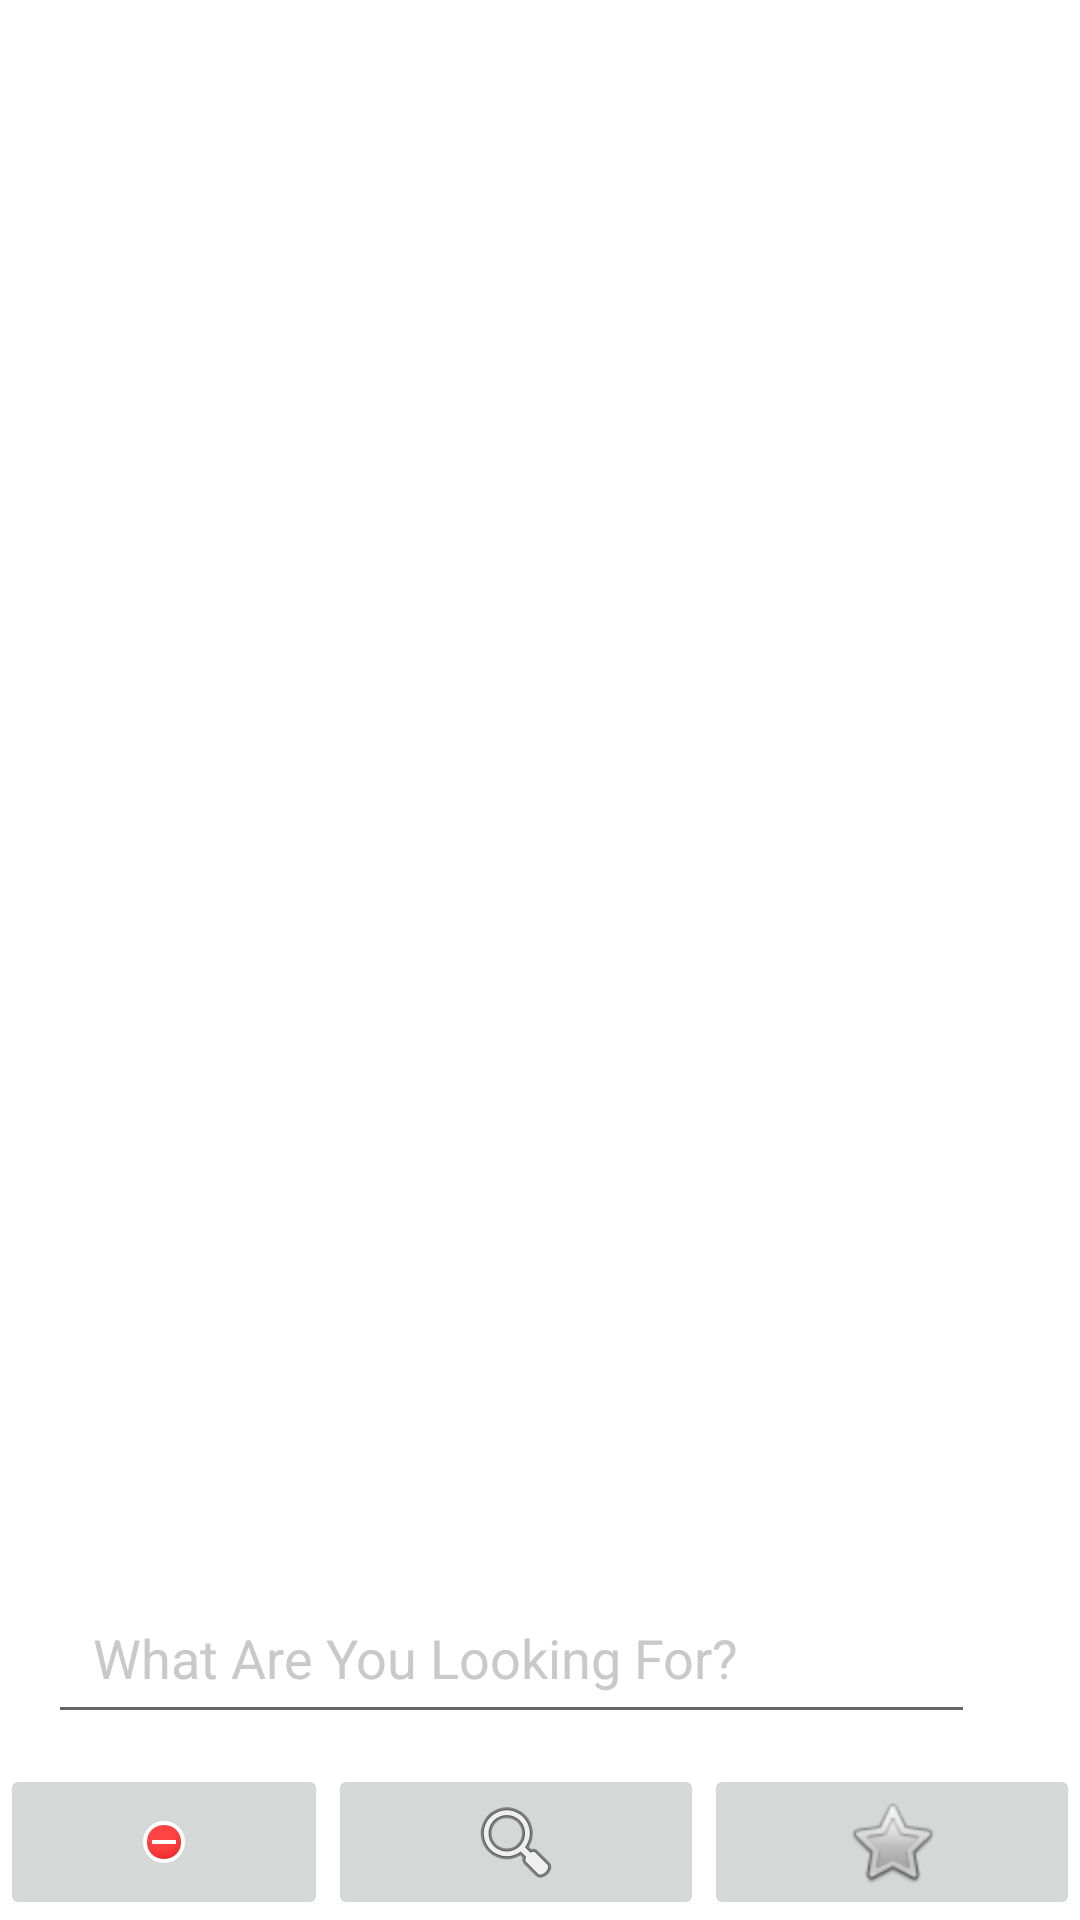

Icon click points for this 1080px x 1920px phone screenshot, format (x=x, y=y):
presence busy: (x=164, y=1842)
search: (x=516, y=1842)
star: (x=892, y=1842)
